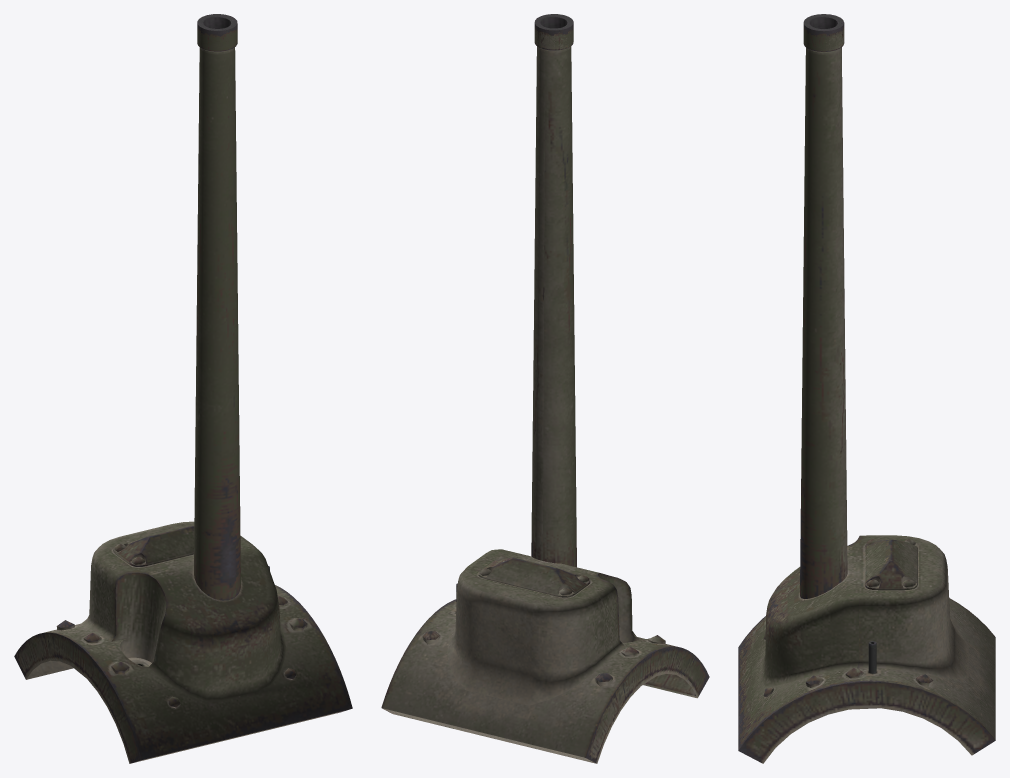
The model's file is Gun_01.glb.
3 renders of one model, left to right at view 1: azimuth 30°, elevation 25°; view 2: azimuth 150°, elevation 25°; view 3: azimuth 270°, elevation 25°, orthographic. The views are drawn at different scales.
Visible parts, largest first — view 1: set_0_group_0; view 2: set_0_group_0; view 3: set_0_group_0.
Part boxes in pixels (x1,y1,x2,y2): set_0_group_0: [14, 14, 352, 763]; set_0_group_0: [381, 14, 709, 763]; set_0_group_0: [738, 14, 995, 763].
Size of the model in its own units: 0.6619 by 2.07 by 0.6942.
Materials: 1 (1 with a texture image).
